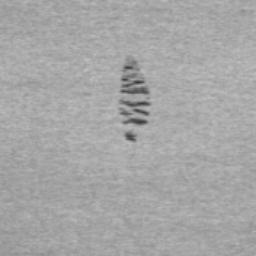Secondary rust skin: (119, 64, 151, 95), (118, 99, 152, 126), (124, 130, 138, 143)
